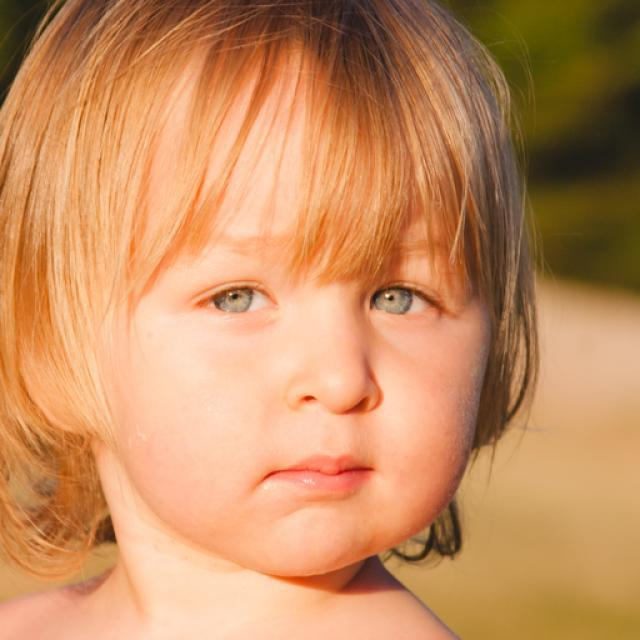0_rostro_limpio: (21, 0, 494, 576)
